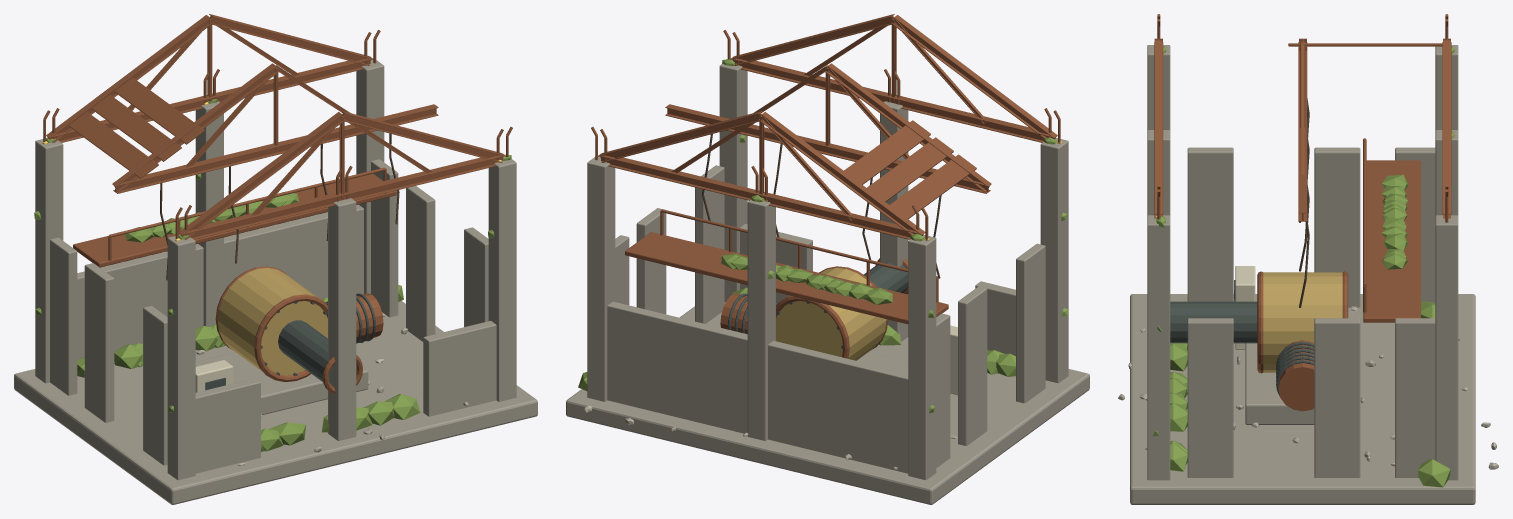
File: Ruined_Pump_House_Golden.glb
3 views of the same model, side by side, from view 1: azimuth 30°, elevation 25°; view 2: azimuth 150°, elevation 25°; view 3: azimuth 270°, elevation 25° (orthographic). The views are drawn at different scales.
Parts seen in each view (by area): view 1: Structure, Growth; view 2: Structure, Growth; view 3: Structure, Growth.
Boxes of the visible parts, x1,y1,x2,y2 form: Structure: [14, 14, 537, 504]; Growth: [34, 99, 511, 451]; Structure: [566, 14, 1089, 504]; Growth: [578, 59, 1068, 413]; Structure: [1118, 14, 1498, 504]; Growth: [1153, 46, 1454, 487].
Bounding box in the file's own units: 16.08 × 14.14 × 13.23.
